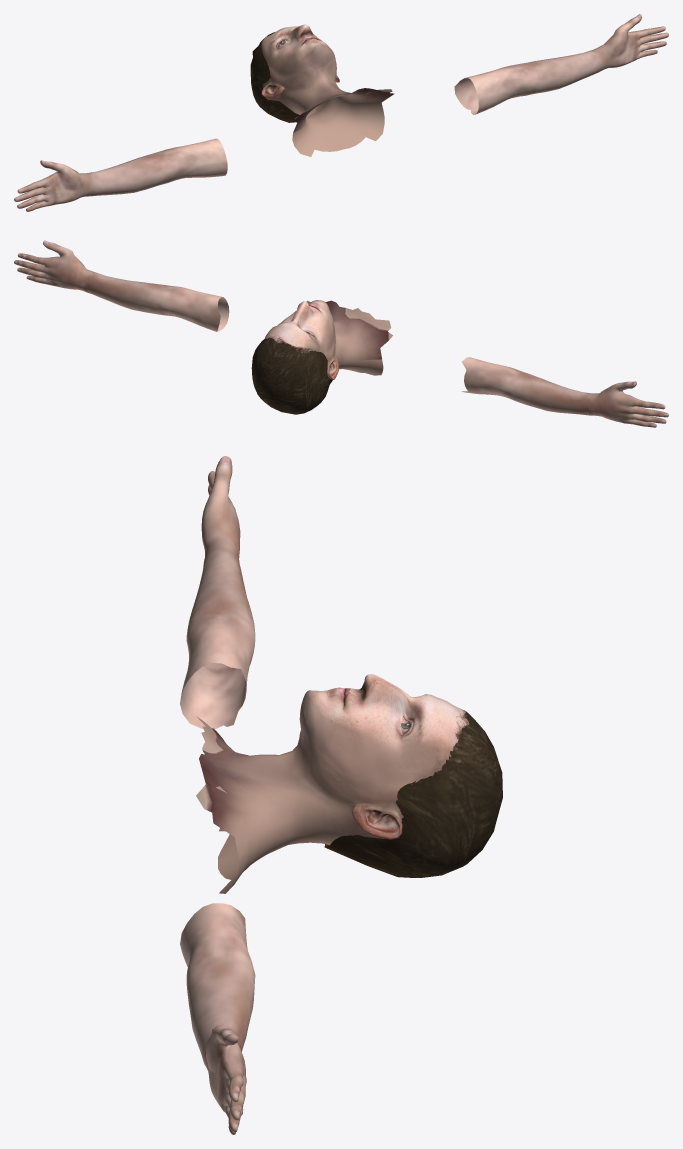
File: mark zuck.dae
3 renders of one model, top to bottom at view 1: azimuth 30°, elevation 25°; view 2: azimuth 150°, elevation 25°; view 3: azimuth 270°, elevation 25°, orthographic. The views are drawn at different scales.
Parts seen in each view (by area): view 1: CC_Base_Body, Hair; view 2: CC_Base_Body, Hair; view 3: CC_Base_Body, Hair.
Part boxes in pixels (left/top/right/bottom): CC_Base_Body: left=14, top=14, right=668, bottom=211; Hair: left=250, top=32, right=299, bottom=122; CC_Base_Body: left=14, top=240, right=668, bottom=427; Hair: left=251, top=338, right=332, bottom=414; CC_Base_Body: left=180, top=456, right=472, bottom=1134; Hair: left=324, top=710, right=502, bottom=877.
Size of the model in its own units: 174 by 37.6 by 25.47.
